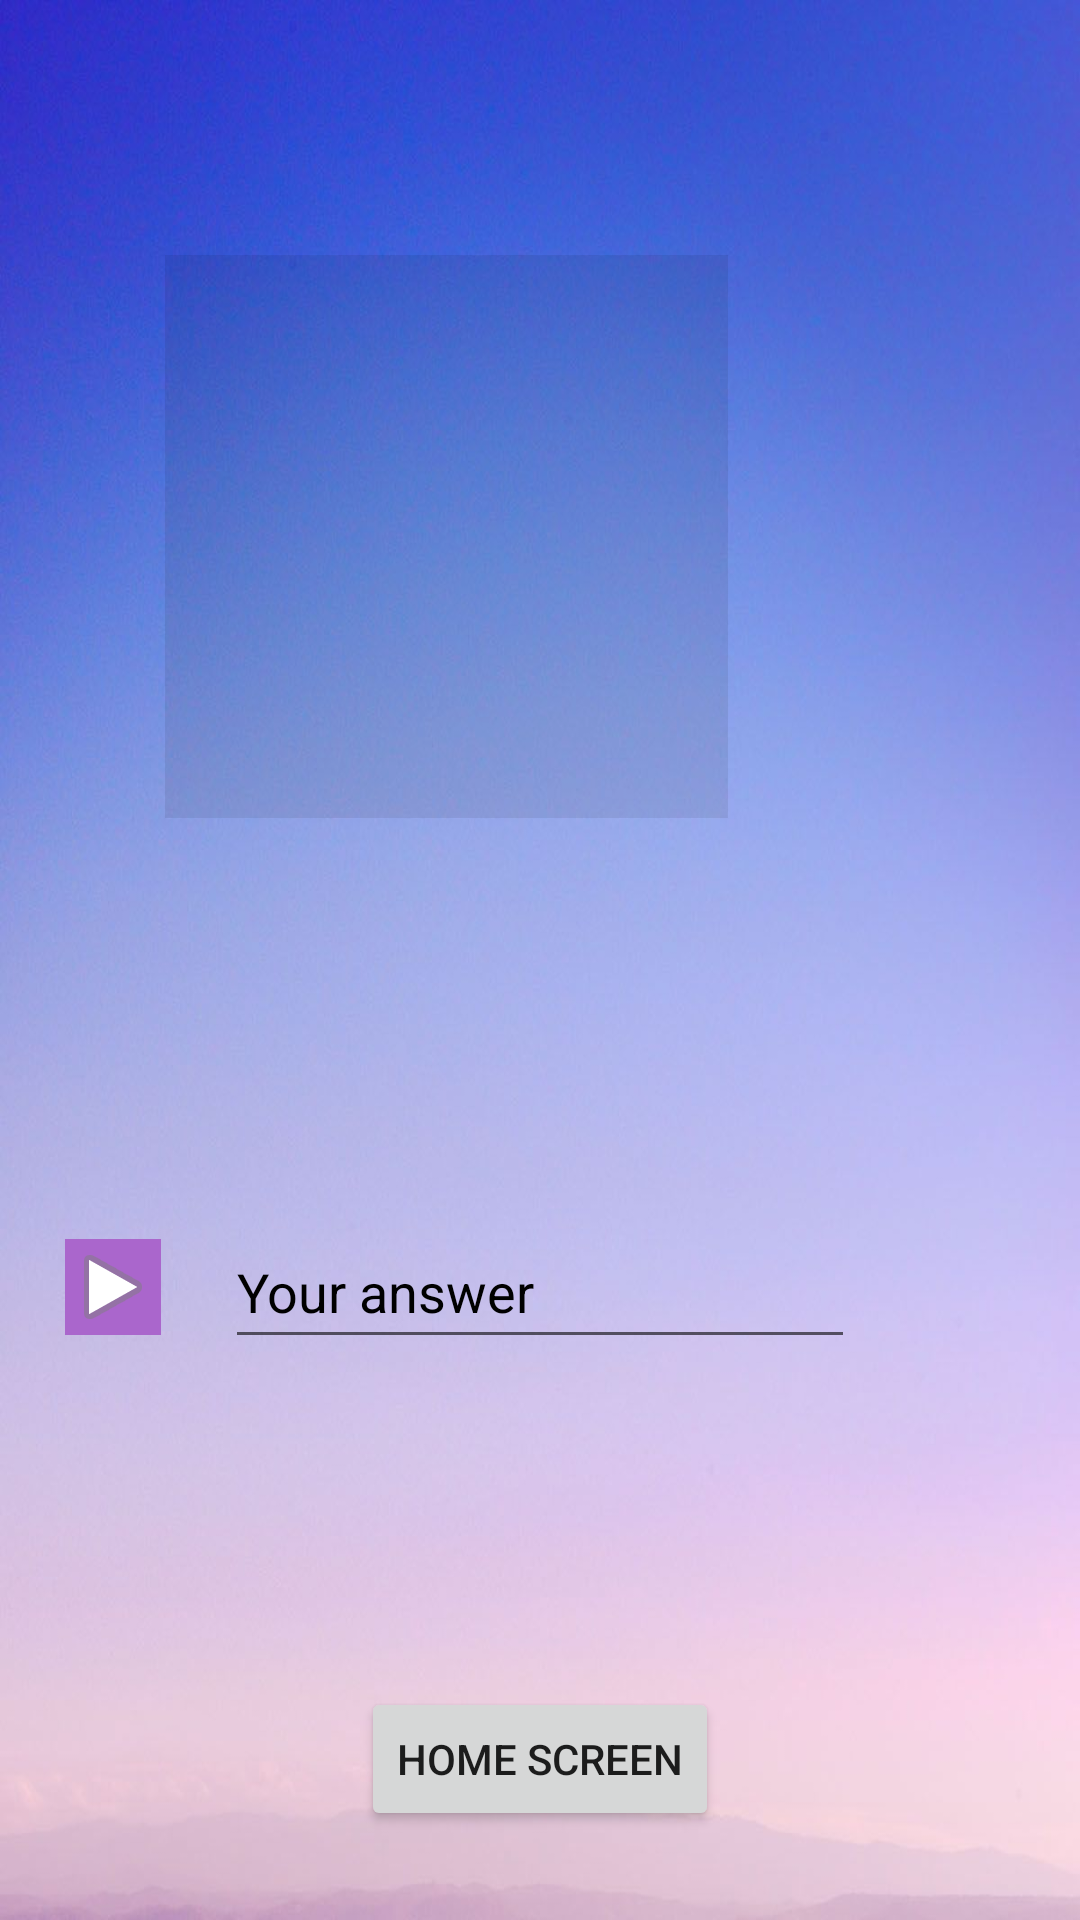

Where icons sit on this 1080*1920 app screen, as [x1, y1, x2, y2]:
play: [65, 1239, 161, 1335]
